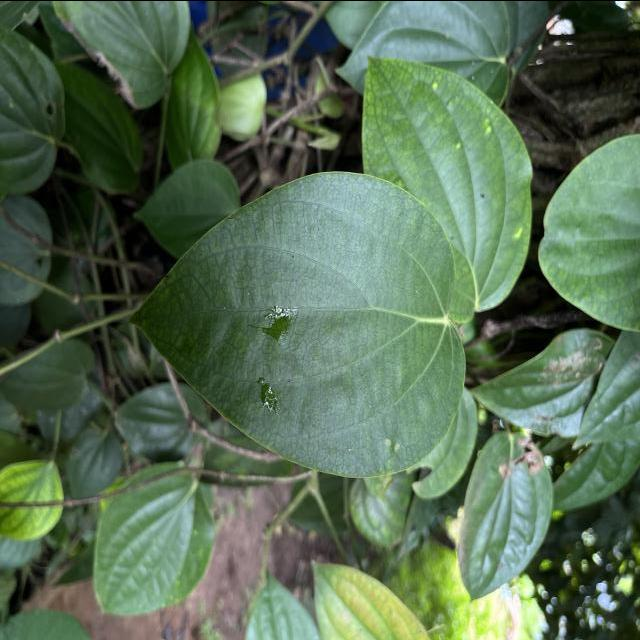Piper nigrum: (126, 165, 470, 481)
